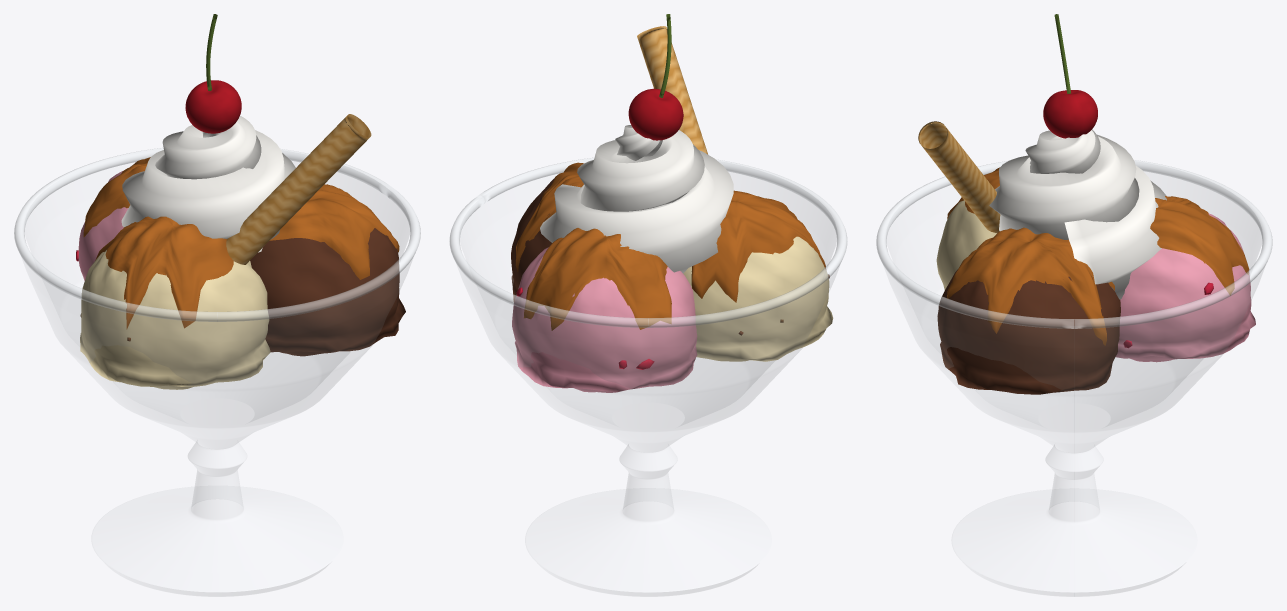
File: sorvete-taca.glb
3 views of the same model, side by side, from view 1: azimuth 30°, elevation 25°; view 2: azimuth 150°, elevation 25°; view 3: azimuth 270°, elevation 25° (orthographic). The views are drawn at different scales.
Parts seen in each view (by area): view 1: taca, bola_0_creme, bola_1_chocolate, chantilly, taca_borda, calda_0, wafer, calda_1, cereja, bola_2_morango, calda_2; view 2: taca, chantilly, bola_2_morango, bola_0_creme, calda_2, taca_borda, calda_0, wafer, cereja, calda_1, bola_1_chocolate; view 3: taca, chantilly, bola_1_chocolate, bola_2_morango, calda_1, taca_borda, calda_2, wafer, cereja, bola_0_creme.
Part boxes in pixels (x1,y1,x2,y2): taca: (22, 149, 412, 596); bola_0_creme: (80, 250, 270, 389); bola_1_chocolate: (250, 228, 405, 356); chantilly: (121, 115, 295, 252); taca_borda: (14, 148, 420, 321); calda_0: (95, 216, 233, 329); wafer: (226, 114, 371, 264); calda_1: (269, 184, 399, 279); cereja: (185, 14, 241, 133); bola_2_morango: (76, 171, 128, 280); calda_2: (83, 157, 150, 236); taca: (457, 159, 838, 596); chantilly: (540, 125, 733, 273); bola_2_morango: (512, 247, 697, 392); bola_0_creme: (683, 236, 833, 361); calda_2: (524, 228, 671, 330); taca_borda: (449, 157, 847, 327); calda_0: (691, 190, 825, 302); wafer: (637, 26, 707, 154); cereja: (628, 14, 683, 140); calda_1: (515, 162, 583, 271); bola_1_chocolate: (511, 178, 554, 301); taca: (884, 162, 1264, 596); chantilly: (989, 129, 1166, 299); bola_1_chocolate: (937, 269, 1120, 394); bola_2_morango: (1115, 213, 1255, 362); calda_1: (947, 227, 1114, 345); taca_borda: (876, 160, 1272, 328); calda_2: (1150, 196, 1249, 295); wafer: (918, 121, 1000, 232); cereja: (1043, 14, 1097, 138); bola_0_creme: (936, 200, 996, 290).
Bounding box in the file's own units: 0.1224 × 0.1797 × 0.1224.
